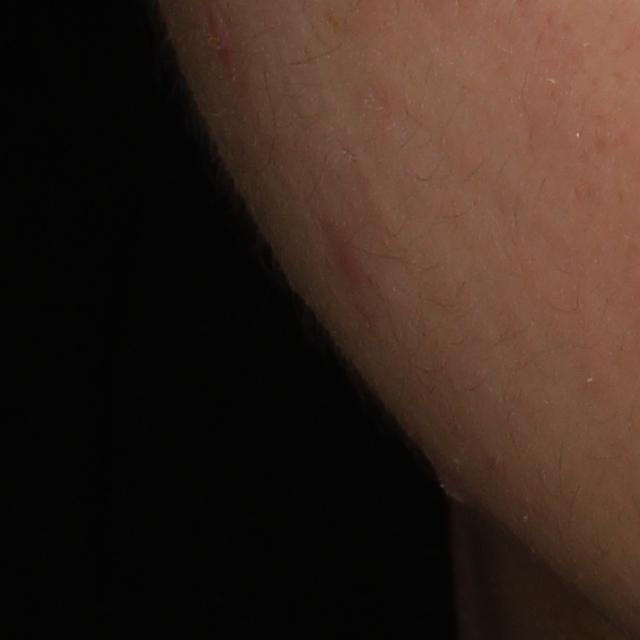papule: (337, 252, 357, 276)
